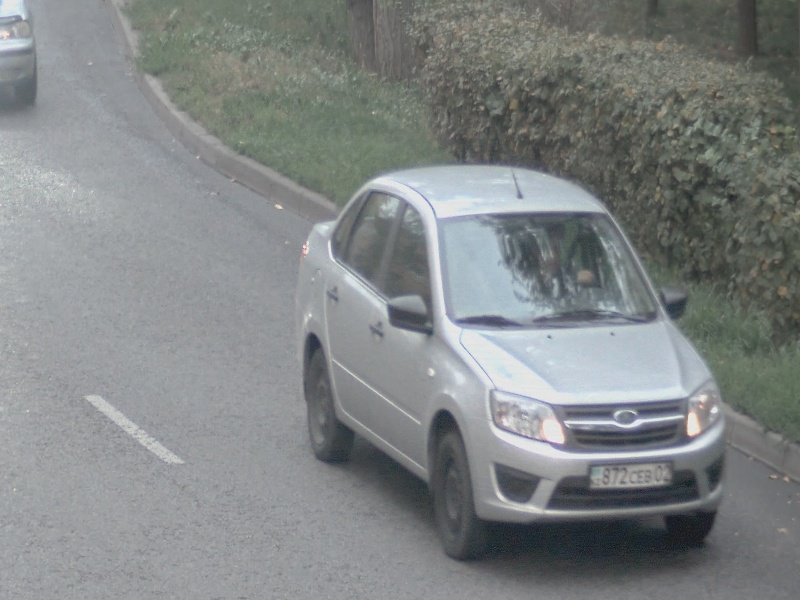plate: (587, 459, 674, 492)
